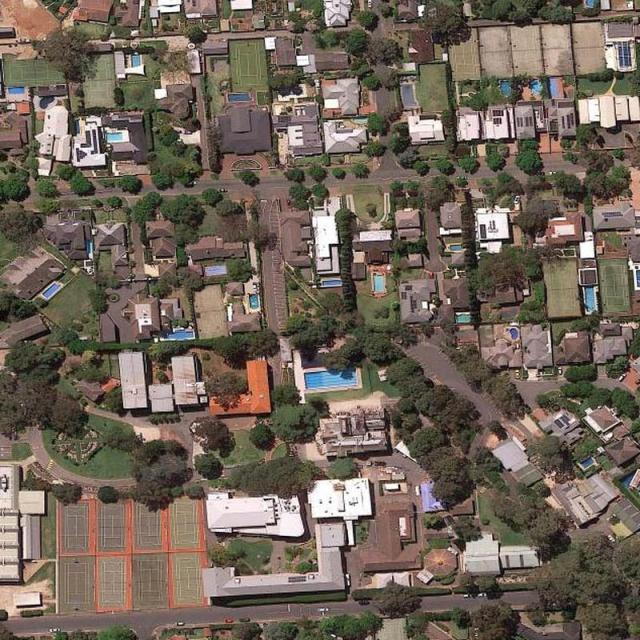vehicle: (618, 372, 626, 380), (513, 196, 521, 204), (345, 574, 350, 586), (476, 591, 486, 597), (48, 627, 59, 632), (238, 618, 250, 622), (318, 608, 330, 612), (608, 534, 614, 542), (225, 618, 234, 623), (218, 188, 229, 192), (187, 181, 197, 185), (287, 200, 292, 208), (175, 622, 185, 626), (514, 368, 518, 378), (463, 594, 472, 598), (557, 366, 561, 375), (359, 602, 369, 605), (549, 170, 556, 174), (457, 176, 466, 179), (367, 1, 371, 6)
